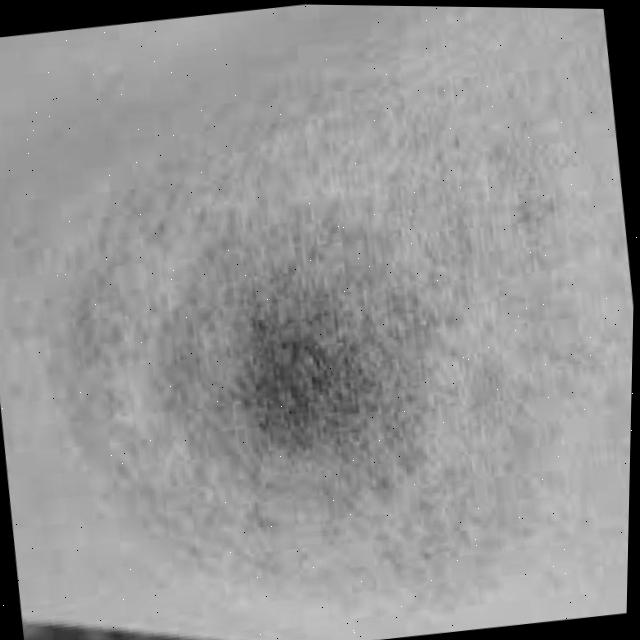Eczema: (98, 194, 511, 520)
